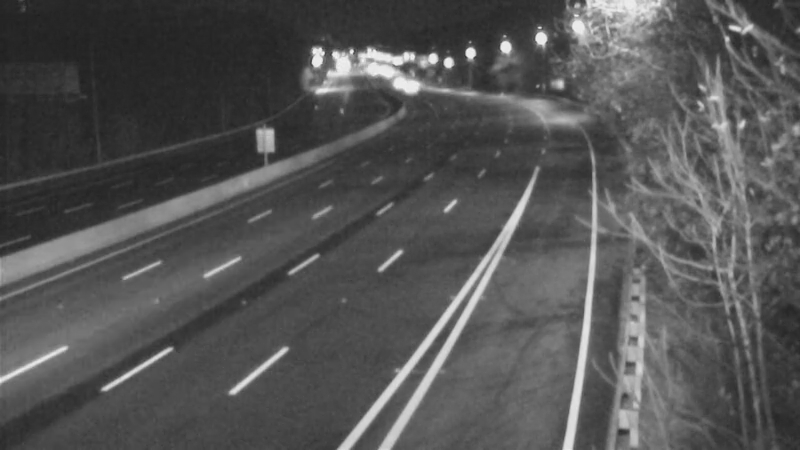vehicle: (388, 61, 438, 111)
